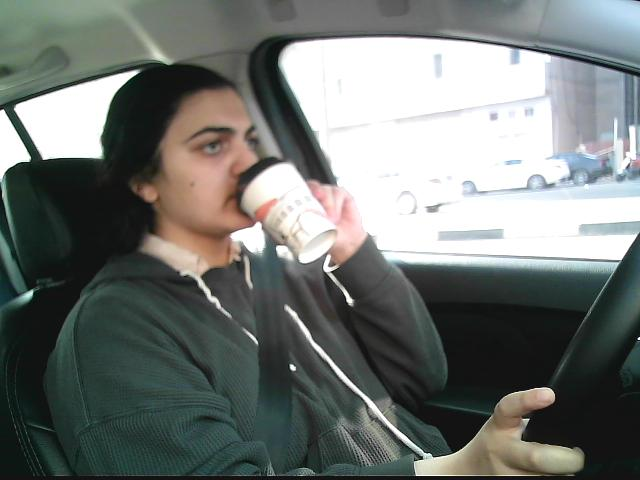Drinking: (236, 146, 341, 265)
